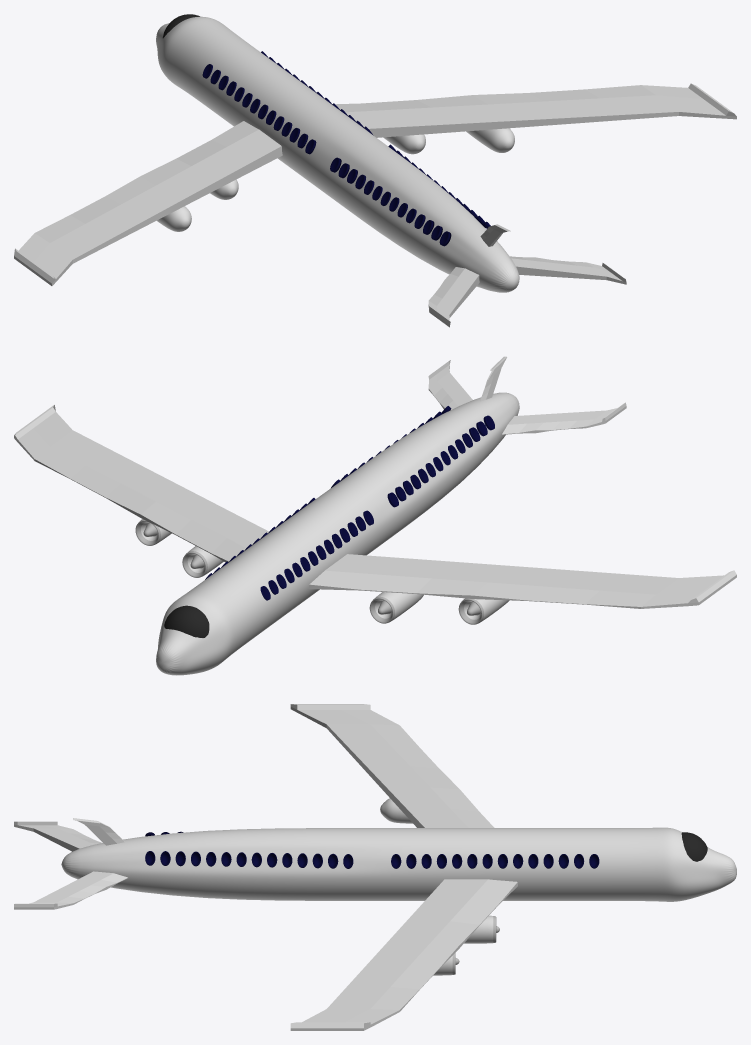
The picture shows the model from 3 angles, top to bottom: view 1: azimuth 30°, elevation 25°; view 2: azimuth 150°, elevation 25°; view 3: azimuth 270°, elevation 25°; orthographic projection. The views are drawn at different scales.
Visible parts, largest first — view 1: Cylinder, Plane, Cylinder.002, Plane.001, Cylinder.004; view 2: Cylinder, Plane, Cylinder.002, Cylinder.004, Plane.001, Sphere; view 3: Cylinder, Plane, Cylinder.002, Plane.001, Cylinder.004, Plane.002, Sphere.
Boxes of the visible parts, x1,y1,x2,y2 form: Cylinder: (156,16,519,292); Plane: (14,83,736,285); Cylinder.002: (202,51,490,246); Plane.001: (428,256,626,327); Cylinder.004: (157,128,514,231); Cylinder: (156,392,519,675); Plane: (14,404,736,608); Cylinder.002: (205,406,494,600); Cylinder.004: (135,519,509,624); Plane.001: (428,360,626,434); Sphere: (164,605,209,637); Cylinder: (61,827,736,901); Plane: (290,704,517,1030); Cylinder.002: (145,831,599,868); Plane.001: (14,821,127,909); Cylinder.004: (380,798,499,975); Plane.002: (73,818,124,845); Sphere: (681,832,707,861).
Size of the model in its own units: 2076 by 242 by 1973.
